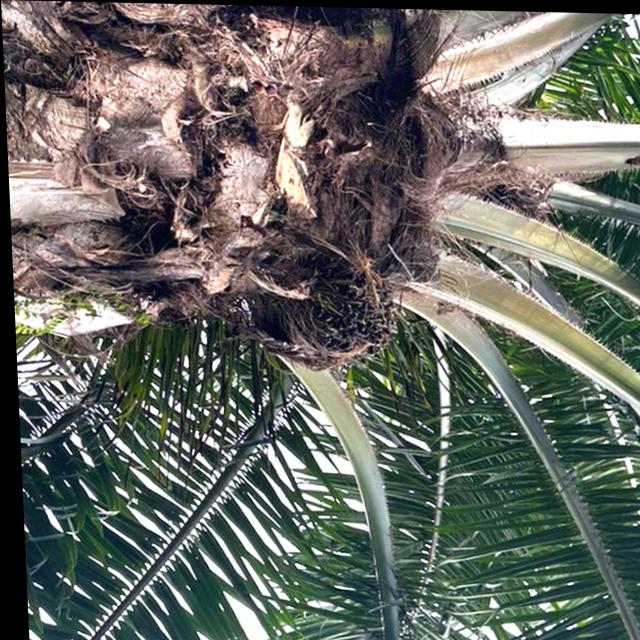unripe: (233, 259, 406, 390)
